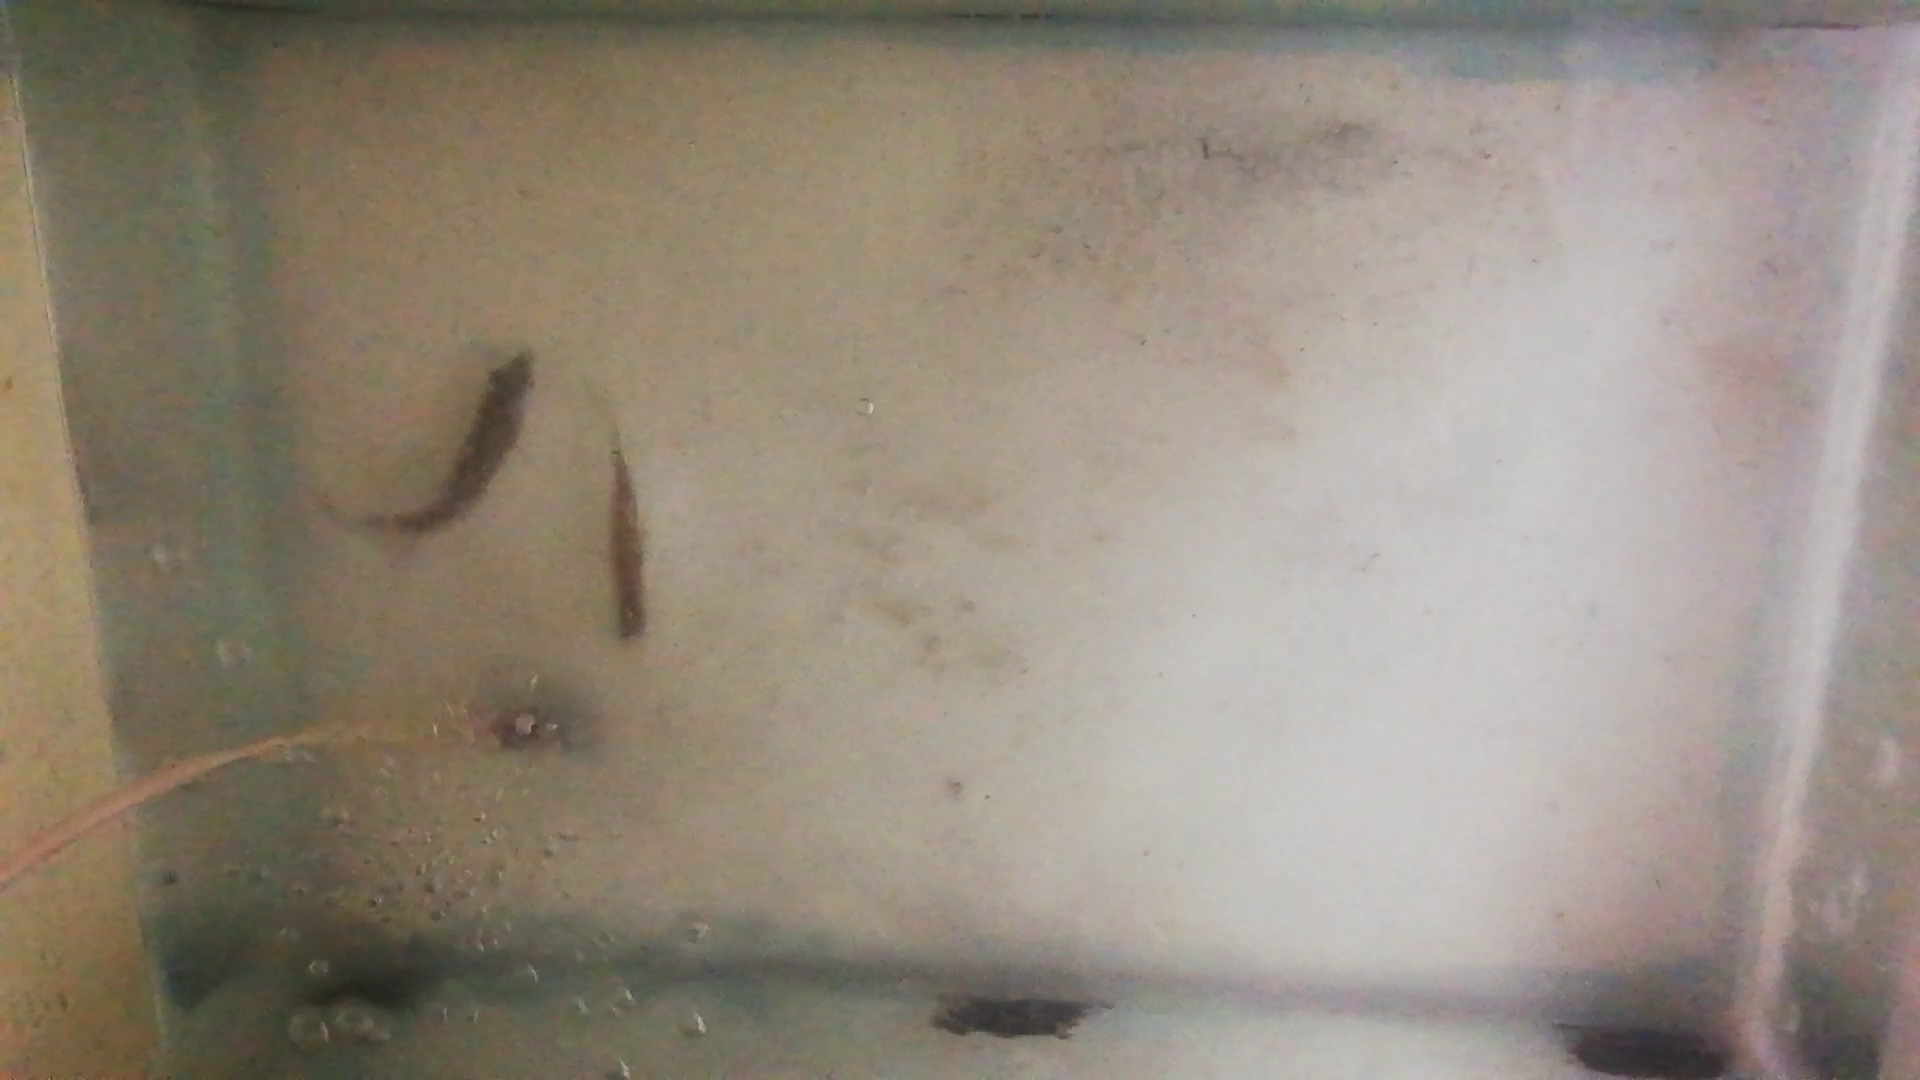fish: (363, 348, 535, 541), (599, 438, 651, 647)
